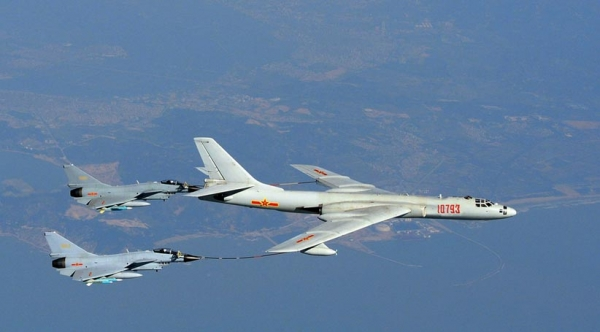airplane: (186, 131, 519, 257), (40, 227, 196, 287), (58, 158, 200, 215)
